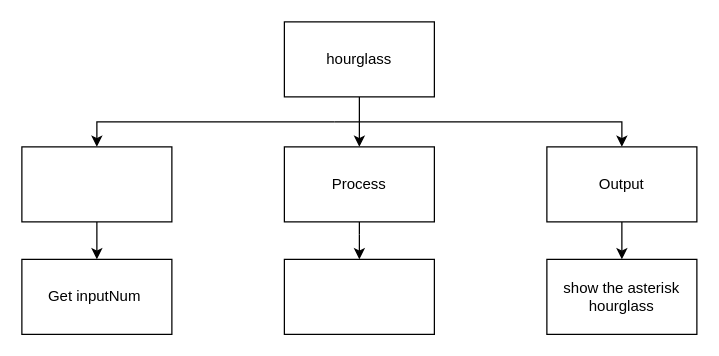
This 719x356 diagram has some shape labels left out. The centre of each missing label's shape, as x and y in pixels:
"create asterisk hourglass" goes at [358,296].
"Input" goes at [96,184].
